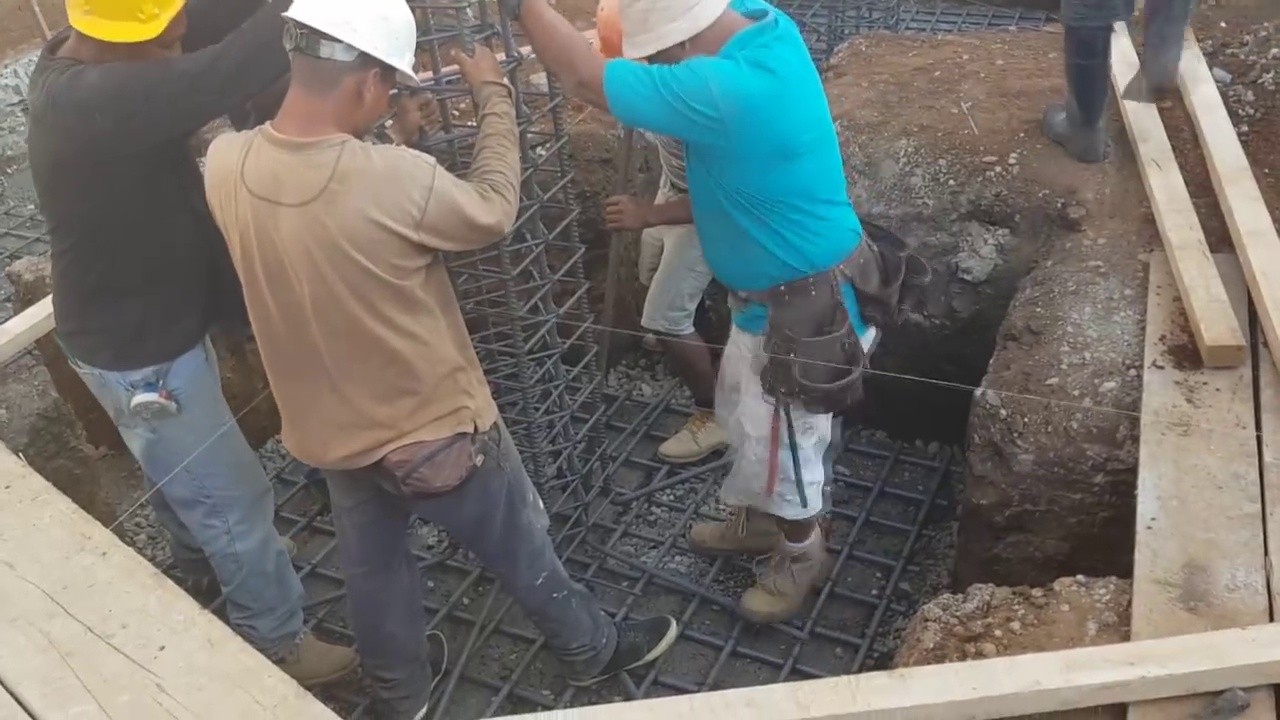helmet: (286, 18, 421, 86)
helmet-off: (590, 0, 769, 78)
helmet-on: (272, 0, 417, 139), (49, 0, 196, 77)
person: (191, 6, 638, 710), (29, 0, 357, 693), (528, 0, 875, 586), (603, 123, 732, 473)
